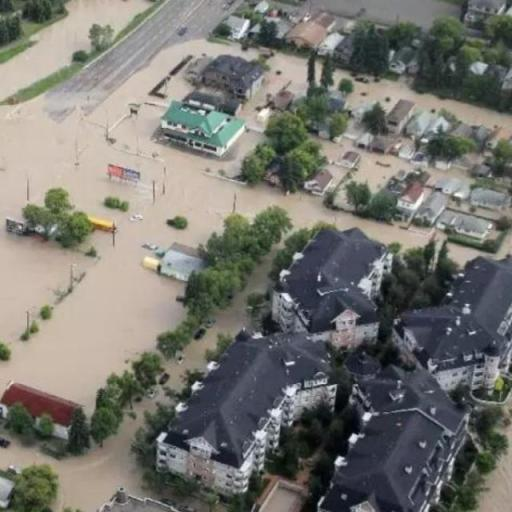flood: (0, 94, 429, 408), (0, 387, 170, 512), (164, 233, 292, 390), (0, 1, 146, 100), (88, 39, 240, 124), (350, 79, 512, 138), (318, 138, 416, 192), (241, 52, 308, 120), (478, 450, 512, 512), (425, 166, 475, 186), (477, 209, 512, 218), (233, 47, 257, 58), (335, 69, 352, 84), (331, 169, 350, 182)
house: (153, 332, 307, 499), (311, 361, 478, 512), (280, 226, 399, 347), (413, 252, 512, 388), (159, 100, 246, 156), (0, 382, 78, 439), (206, 53, 264, 103), (440, 210, 490, 240), (160, 242, 196, 282), (286, 21, 328, 51), (471, 187, 508, 212), (389, 98, 414, 133), (400, 180, 424, 214), (465, 2, 512, 19), (391, 48, 419, 74), (406, 108, 430, 138), (306, 168, 333, 193), (226, 16, 250, 38), (486, 126, 506, 148), (450, 120, 472, 138), (341, 152, 359, 166)
